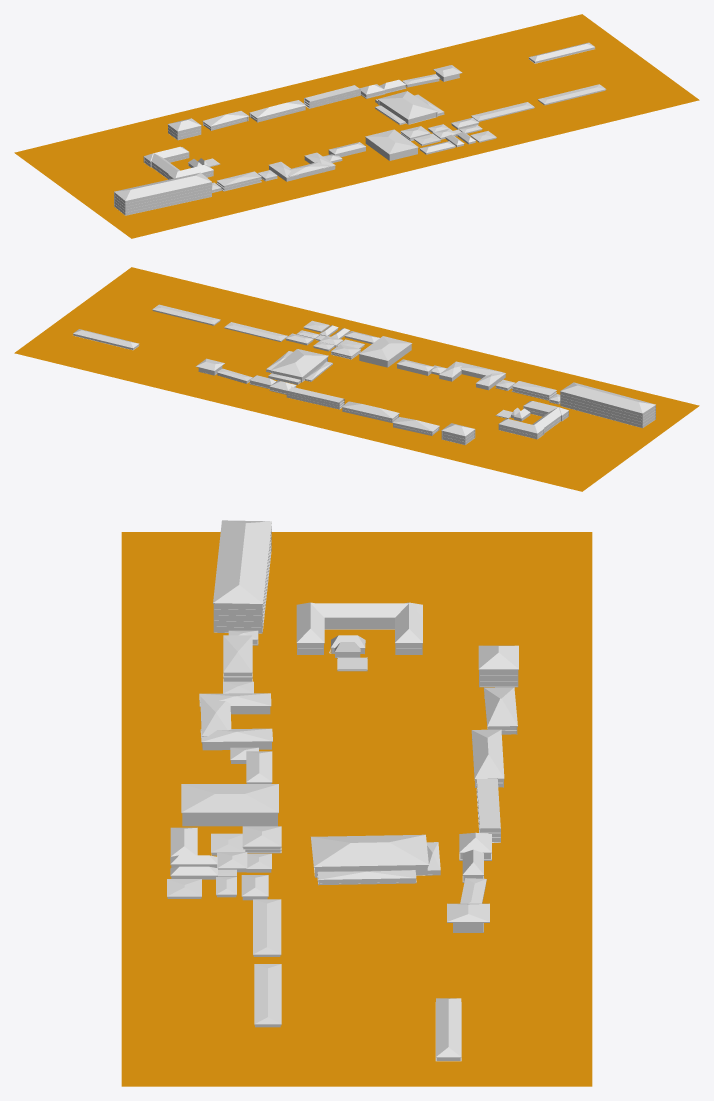
File: 3dmap.glb
The picture shows the model from 3 angles, top to bottom: view 1: azimuth 30°, elevation 25°; view 2: azimuth 150°, elevation 25°; view 3: azimuth 270°, elevation 25°; orthographic projection. The views are drawn at different scales.
Visible parts, largest first — view 1: Plane, new building, main building, canteen, building_012, building_011, building_006.001, room.002, front office 2, old educ, building_010, front office 1 (+5 smaller); view 2: Plane, new building, main building, canteen, building_012, building_011, building_006.001, room.002, building_010, front office 2, old educ, front office 1 (+5 smaller); view 3: Plane, new building, main building, canteen, mid, front office 2, building_006.001, room.002, front office 1, building_011, building_010, old educ (+10 smaller).
Boxes of the visible parts, left/top/right/bottom form: Plane: left=14, top=14, right=699, bottom=238; new building: left=114, top=172, right=211, bottom=215; main building: left=377, top=91, right=438, bottom=124; canteen: left=365, top=129, right=418, bottom=160; building_012: left=304, top=85, right=360, bottom=108; building_011: left=249, top=100, right=306, bottom=122; building_006.001: left=167, top=118, right=201, bottom=140; room.002: left=528, top=42, right=595, bottom=63; front office 2: left=538, top=84, right=606, bottom=105; old educ: left=216, top=171, right=261, bottom=191; building_010: left=202, top=111, right=249, bottom=130; front office 1: left=471, top=102, right=534, bottom=121; Plane: left=14, top=267, right=699, bottom=491; new building: left=560, top=382, right=655, bottom=428; main building: left=270, top=349, right=328, bottom=382; canteen: left=359, top=336, right=412, bottom=367; building_012: left=286, top=387, right=344, bottom=409; building_011: left=342, top=401, right=399, bottom=422; building_006.001: left=441, top=423, right=475, bottom=445; room.002: left=73, top=329, right=139, bottom=350; building_010: left=392, top=417, right=439, bottom=435; front office 2: left=152, top=304, right=220, bottom=325; old educ: left=511, top=381, right=556, bottom=400; front office 1: left=224, top=322, right=287, bottom=341; Plane: left=121, top=532, right=592, bottom=1086; new building: left=213, top=520, right=271, bottom=633; main building: left=310, top=834, right=428, bottom=877; canteen: left=181, top=784, right=278, bottom=826; mid: left=311, top=603, right=422, bottom=629; front office 2: left=254, top=964, right=281, bottom=1027; building_006.001: left=478, top=645, right=518, bottom=687; room.002: left=435, top=998, right=461, bottom=1061; front office 1: left=253, top=899, right=281, bottom=956; building_011: left=471, top=729, right=504, bottom=787; building_010: left=483, top=687, right=517, bottom=734; old educ: left=223, top=635, right=252, bottom=681.
Bounding box in the file's own units: 144 × 4.7 × 51.74.
